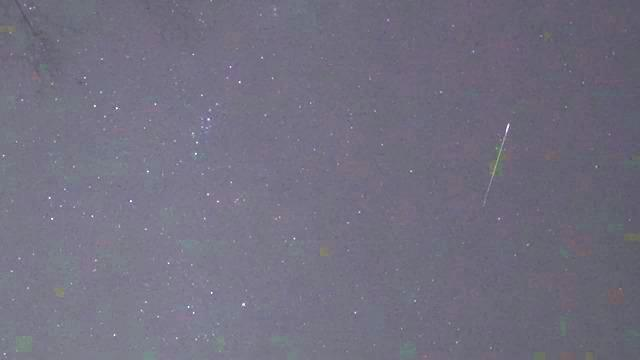meteorite: (470, 115, 520, 213)
